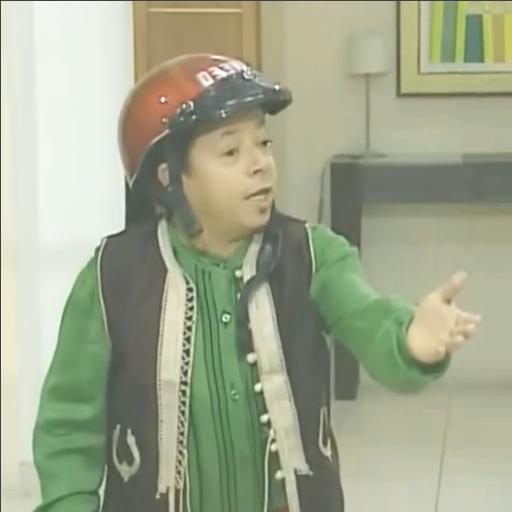fouchika: (186, 110, 275, 256)
